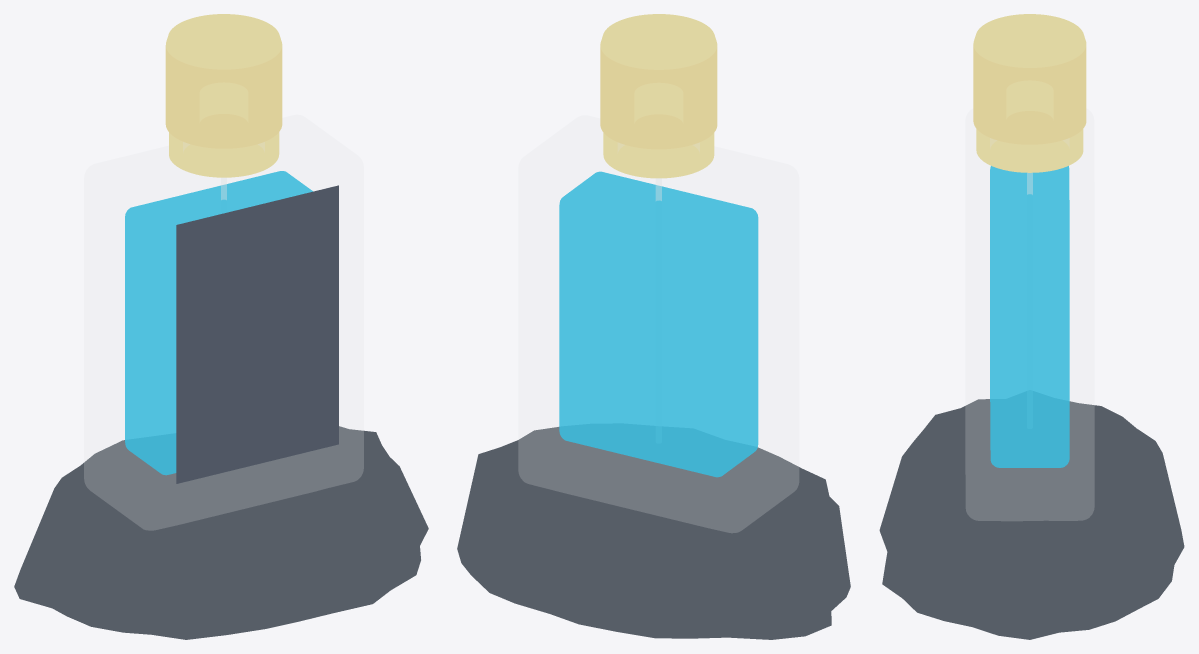
The model's file is bleu_mist.gltf.
3 views of the same model, side by side, from view 1: azimuth 30°, elevation 25°; view 2: azimuth 150°, elevation 25°; view 3: azimuth 270°, elevation 25° (orthographic). The views are drawn at different scales.
Visible parts, largest first — view 1: Pedestal_Rock, Glass_Bottle, Label_Plate, Perfume_Liquid, Cap_Knurled_Body, Cap_Top_Disc, Cap_Lower_Ring, Atomizer_Pump; view 2: Glass_Bottle, Pedestal_Rock, Perfume_Liquid, Cap_Knurled_Body, Cap_Top_Disc, Cap_Lower_Ring, Atomizer_Pump; view 3: Pedestal_Rock, Glass_Bottle, Perfume_Liquid, Cap_Knurled_Body, Cap_Top_Disc, Cap_Lower_Ring, Atomizer_Pump.
Boxes of the visible parts, left/top/right/bottom form: Pedestal_Rock: left=14, top=426, right=428, bottom=639; Glass_Bottle: left=84, top=115, right=363, bottom=529; Label_Plate: left=176, top=185, right=338, bottom=483; Perfume_Liquid: left=125, top=171, right=312, bottom=475; Cap_Knurled_Body: left=165, top=46, right=282, bottom=148; Cap_Top_Disc: left=165, top=14, right=282, bottom=69; Cap_Lower_Ring: left=169, top=132, right=279, bottom=177; Atomizer_Pump: left=199, top=82, right=248, bottom=122; Glass_Bottle: left=519, top=116, right=798, bottom=532; Pedestal_Rock: left=457, top=427, right=850, bottom=639; Perfume_Liquid: left=559, top=171, right=758, bottom=477; Cap_Knurled_Body: left=600, top=47, right=717, bottom=149; Cap_Top_Disc: left=600, top=14, right=717, bottom=69; Cap_Lower_Ring: left=603, top=133, right=714, bottom=178; Atomizer_Pump: left=634, top=82, right=683, bottom=123; Pedestal_Rock: left=879, top=399, right=1184, bottom=639; Glass_Bottle: left=966, top=109, right=1093, bottom=520; Perfume_Liquid: left=990, top=166, right=1069, bottom=467; Cap_Knurled_Body: left=973, top=45, right=1086, bottom=144; Cap_Top_Disc: left=973, top=14, right=1086, bottom=67; Cap_Lower_Ring: left=976, top=129, right=1083, bottom=172; Atomizer_Pump: left=1006, top=80, right=1053, bottom=120.
Size of the model in its own units: 17.09 by 22.82 by 12.25.
